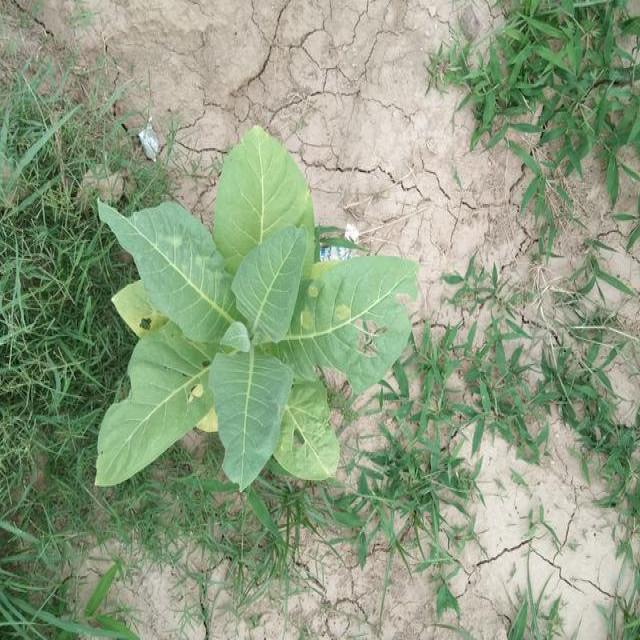crop: (86, 127, 428, 505)
